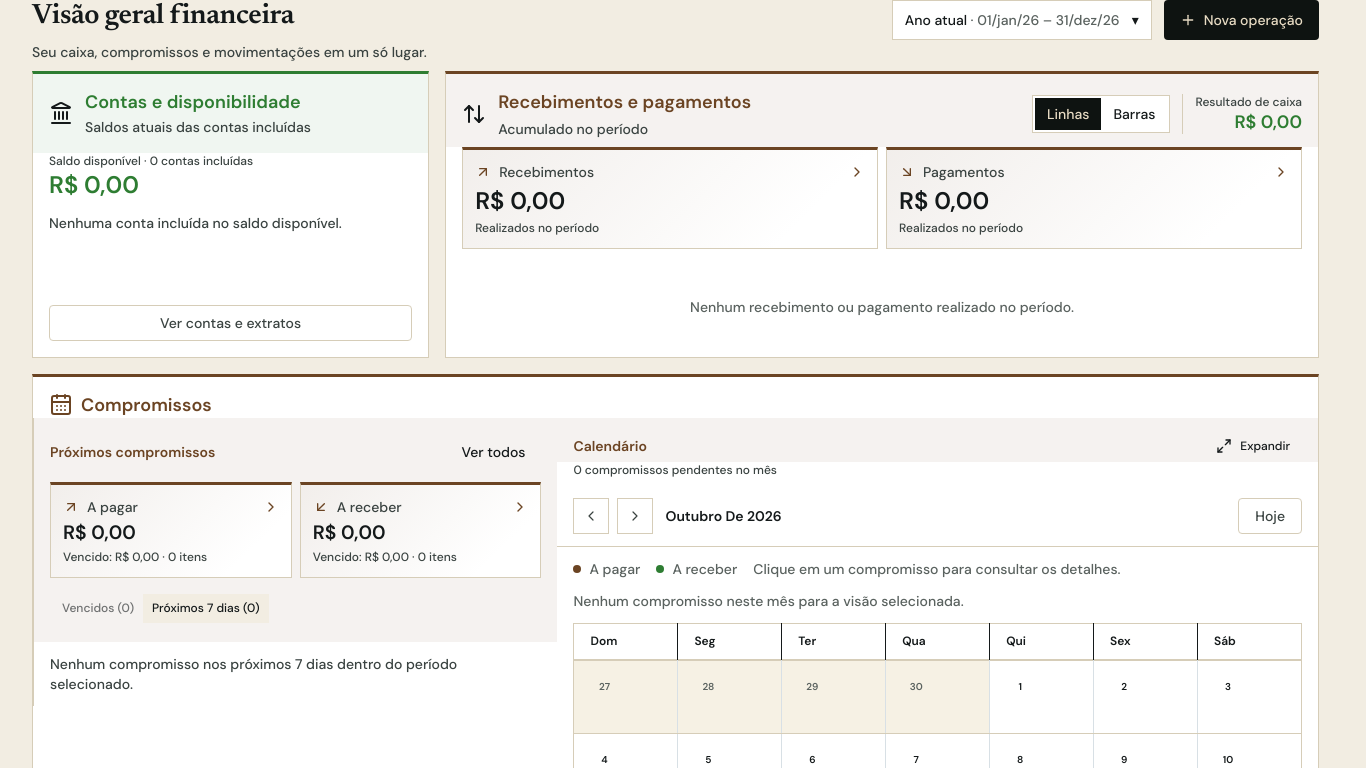
Test: integra os indicadores aos painéis e abre lista sem navegar
Expected: the text "Saldo disponível · 0 contas incluídas" is shown once, [49, 153, 253, 169]
Expected: the element named "Ver recebimentos" shows "Recebimentos e pagamentos", [498, 90, 751, 114]
Click the button with aria-label "Ver a pagar".
click(171, 530)  # box [50, 482, 292, 578]
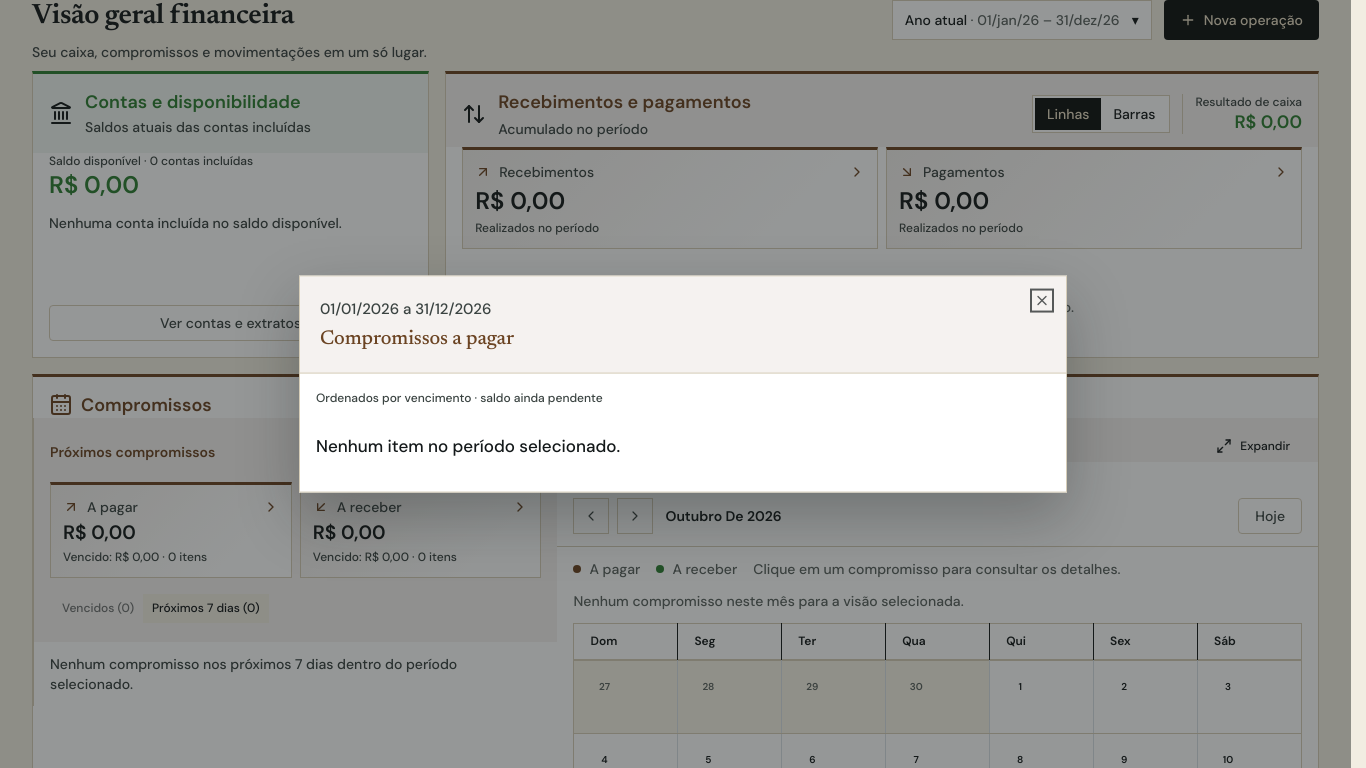
Result: the dialog "Compromissos a pagar" is shown at [299, 276, 1067, 492]
